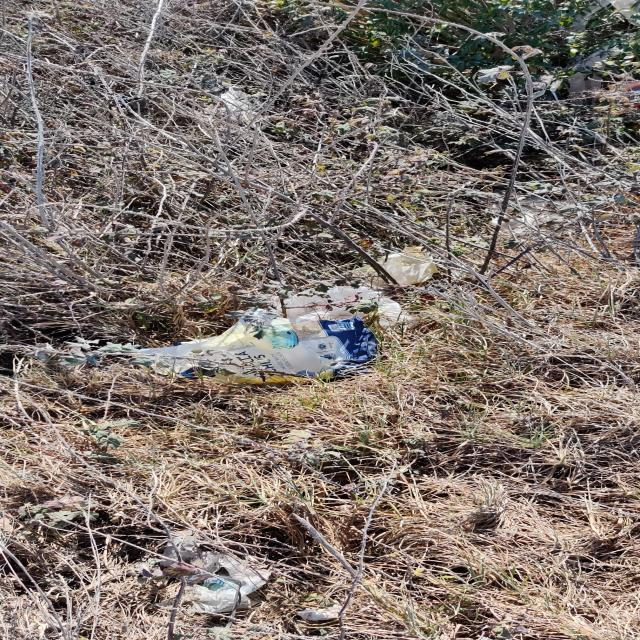litter: (126, 312, 385, 382), (191, 552, 285, 611), (376, 250, 435, 287)
